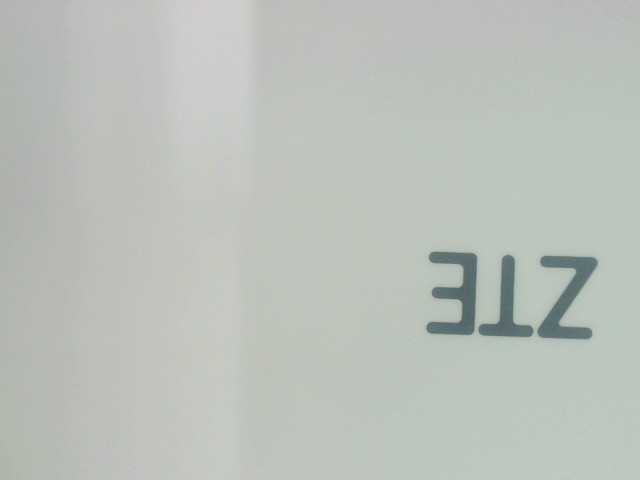AN_ZTELarge: (415, 237, 607, 347)
